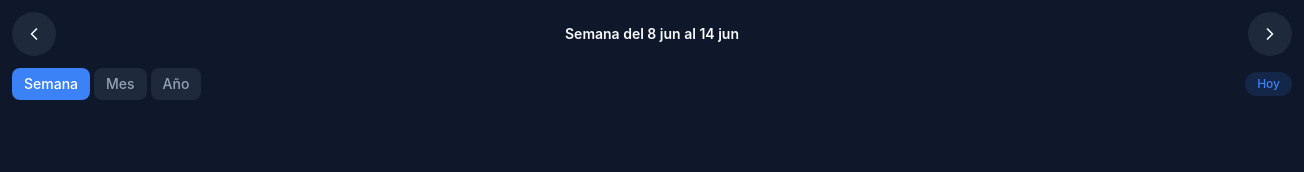
PeriodoNavegacion.svelte › indicador clickeable (AC-14) › click en indicador vuelve a hoy cuando no estamos en periodo actual
This screenshot has width=1304, height=172.
// El indicador es el botón central con el texto del periodo
Click the button "Semana del 8 jun al 14 jun": (652, 34) [60,16,1244,52]
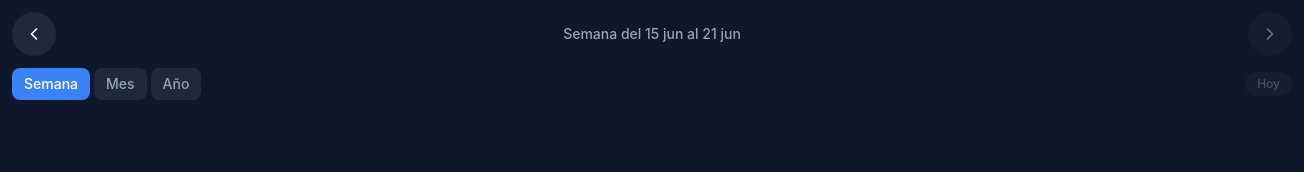
Expected: the button "Semana del 15 jun al 21 jun" is shown, [60,16,1244,52]
